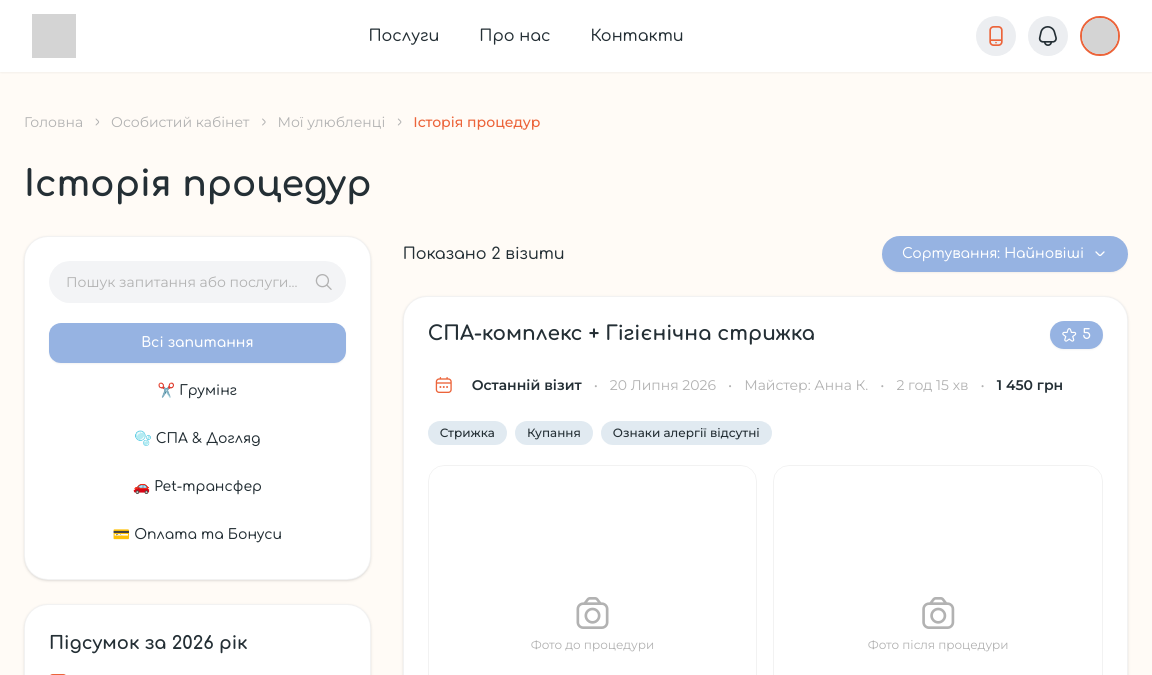
it: PetProcedureHistoryPage › filters procedures by category tabs
The image size is (1152, 675).
Click the tab "✂️ Грумінг": (197, 391) [49,371,346,411]
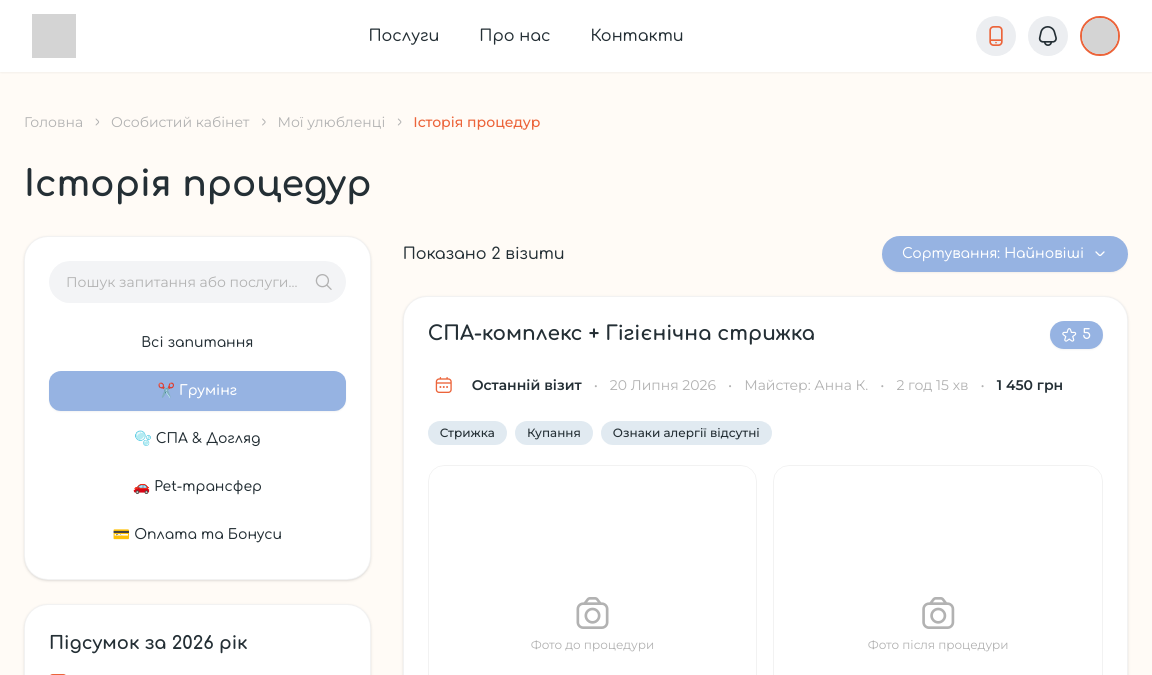
Click the tab "🚗 Pet-трансфер": (197, 487) [49,467,346,507]
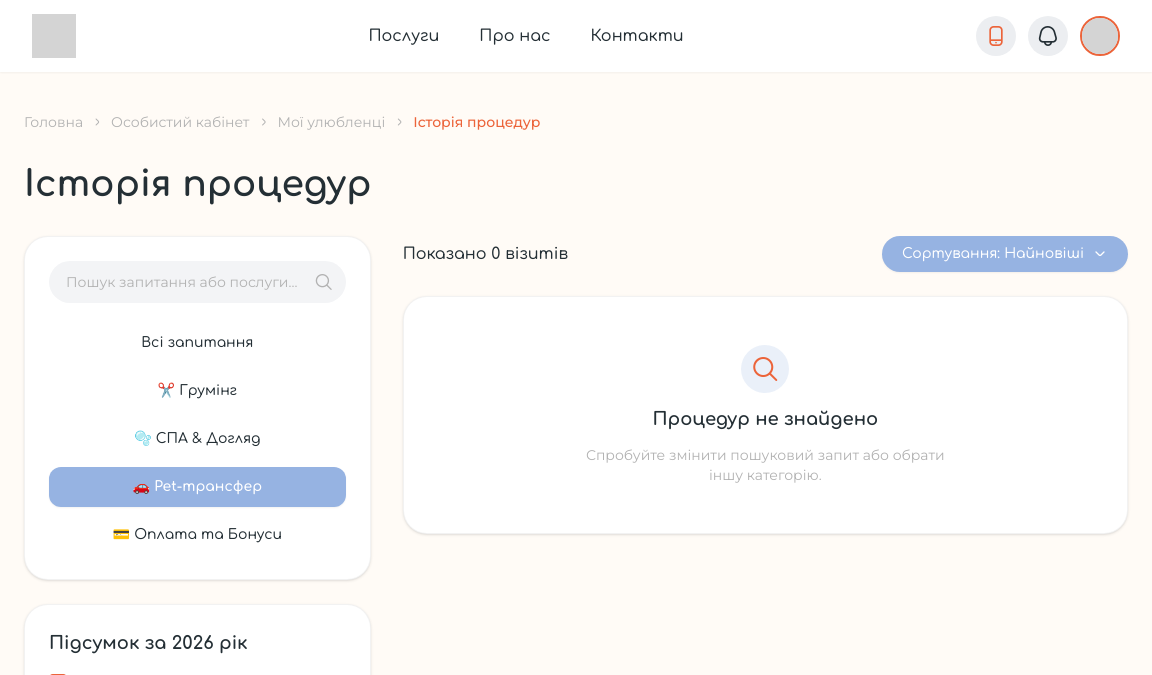
expect the element with test id "empty-procedure-search" is shown: met, box [403,296,1128,534]
Click the tab "Всі запитання": (197, 343) [49,323,346,363]
(page scrolled)
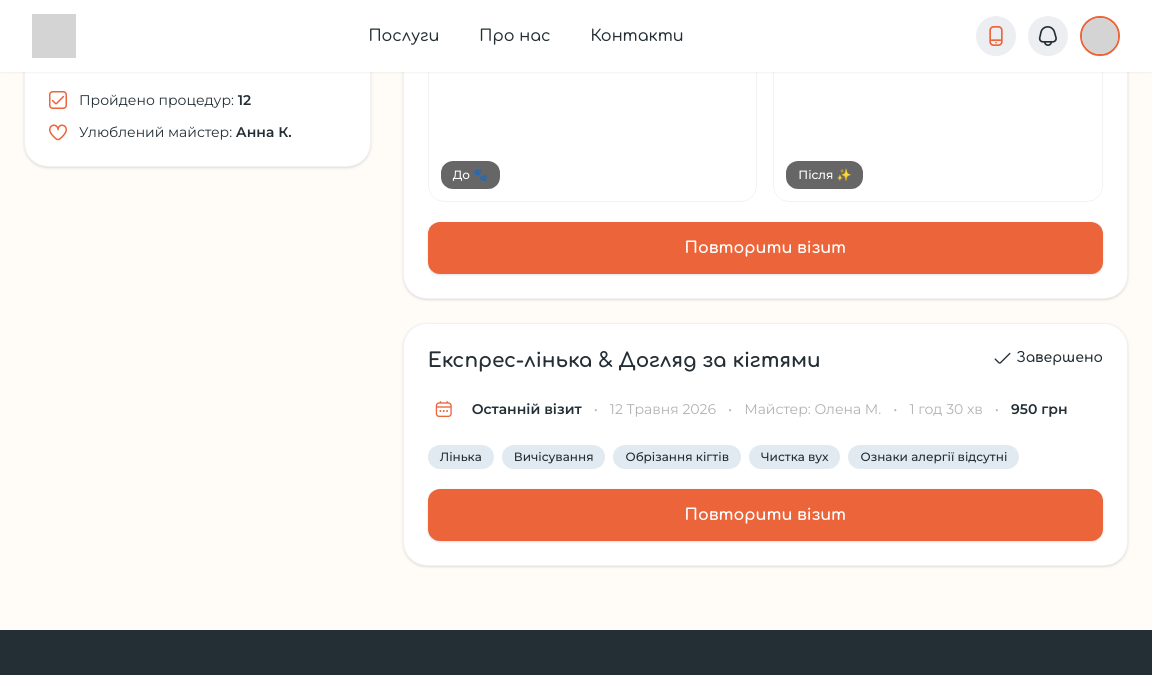
expect the heading "Експрес-лінька & Догляд за кігтями" is shown: met, box [428,348,821,373]
